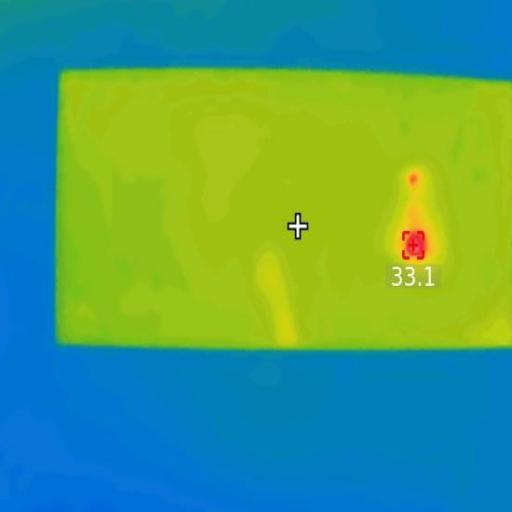hotspot: (403, 226, 428, 264), (405, 170, 421, 184)
